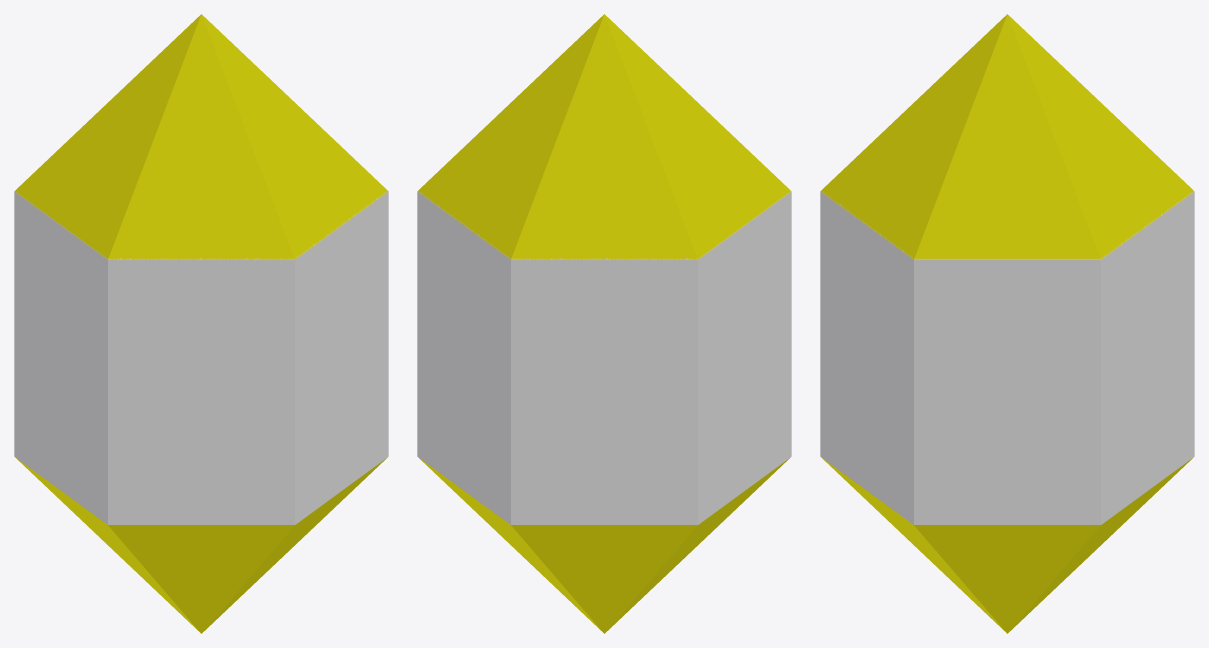
Rendered from trackorb.glb.
3 renders of one model, left to right at view 1: azimuth 30°, elevation 25°; view 2: azimuth 150°, elevation 25°; view 3: azimuth 270°, elevation 25°, orthographic.
Visible parts, largest first — view 1: trackorb; view 2: trackorb; view 3: trackorb.
Part boxes in pixels (bbox=[...]): trackorb: bbox=[14, 14, 388, 633]; trackorb: bbox=[417, 14, 791, 633]; trackorb: bbox=[820, 14, 1194, 633].
Size of the model in its own units: 0.0866 by 0.1826 by 0.1.
1 material, 1 textured.
